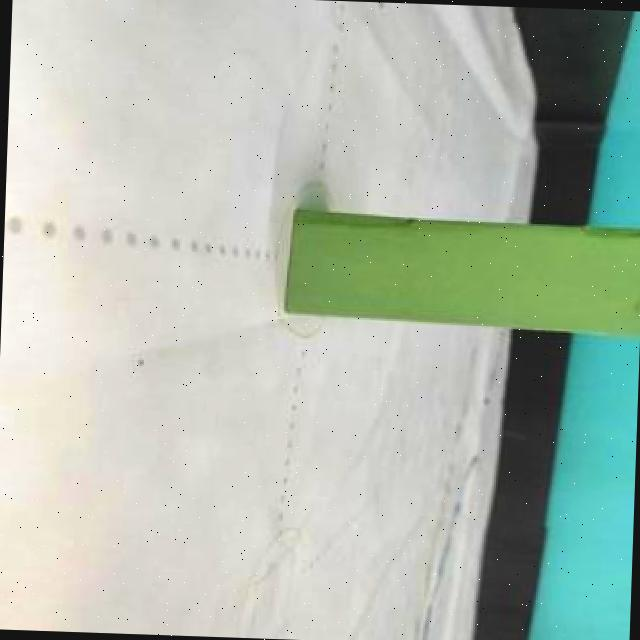greenbox: (281, 206, 640, 340)
